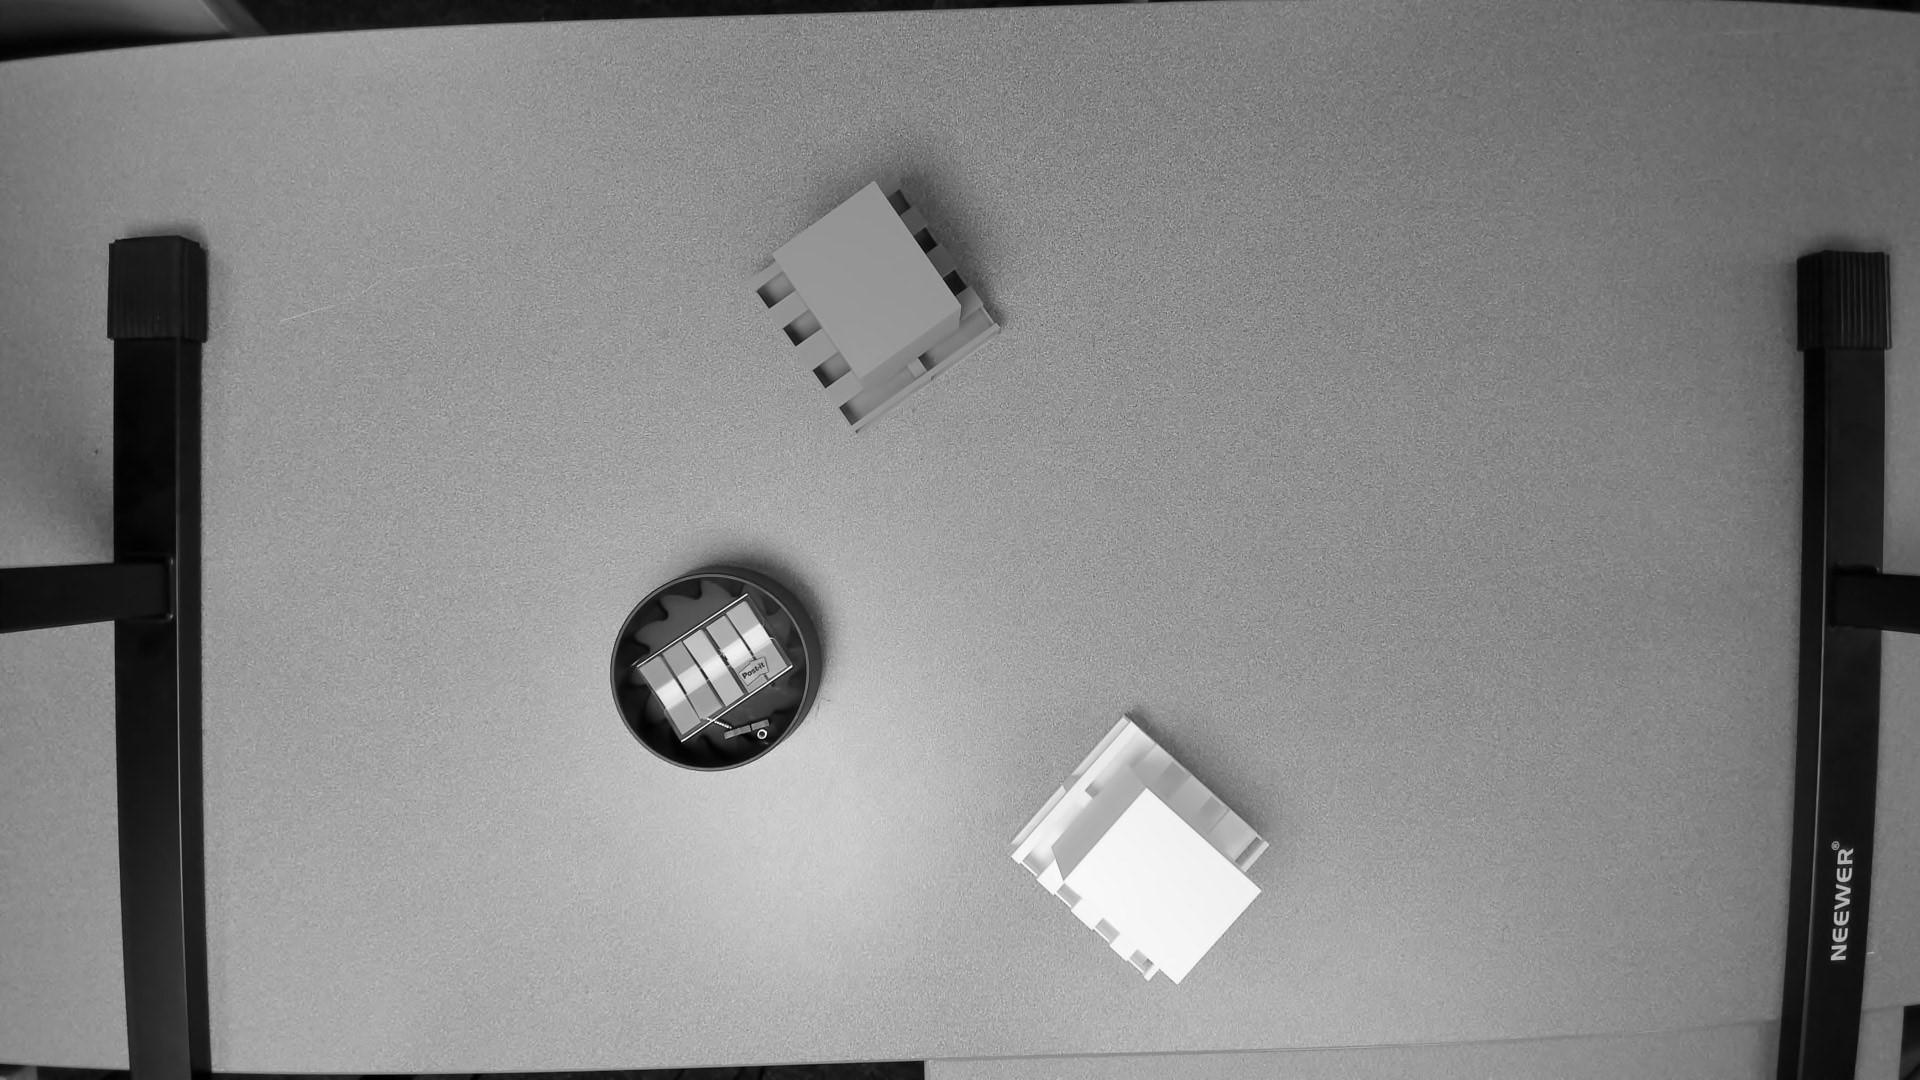grey pallet: (740, 171, 1015, 443)
white pallet: (1006, 705, 1283, 1002)
